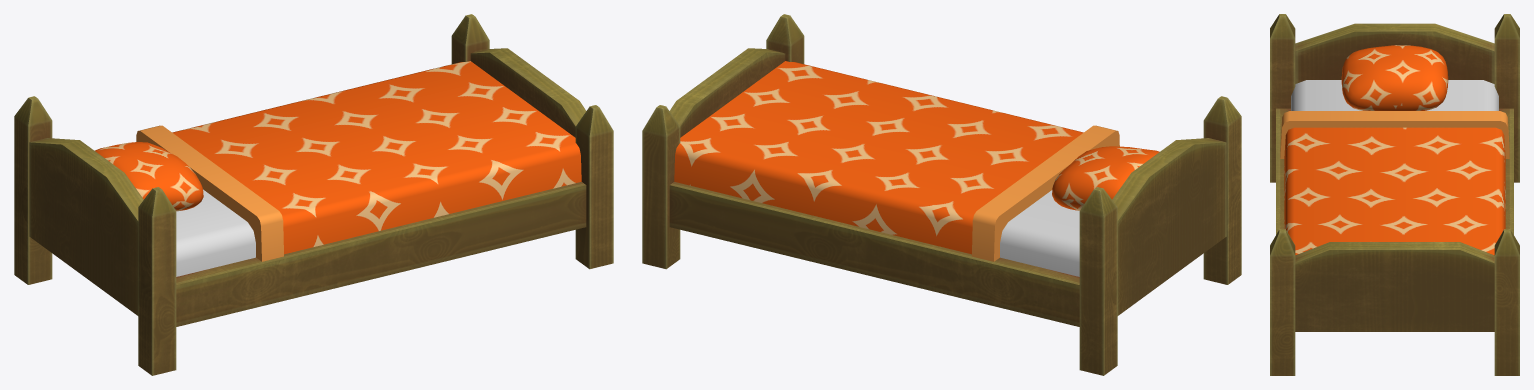
Rendered from bed.glb.
3 renders of one model, left to right at view 1: azimuth 30°, elevation 25°; view 2: azimuth 150°, elevation 25°; view 3: azimuth 270°, elevation 25°, orthographic. The views are drawn at different scales.
Parts seen in each view (by area): view 1: bed_low; view 2: bed_low; view 3: bed_low.
Boxes of the visible parts, x1,y1,x2,y2 form: bed_low: (14,14,613,375); bed_low: (642,14,1241,375); bed_low: (1270,14,1519,375).
Bounding box in the file's own units: 4.19 × 1.55 × 2.17.
Materials: 2 (2 with a texture image).
